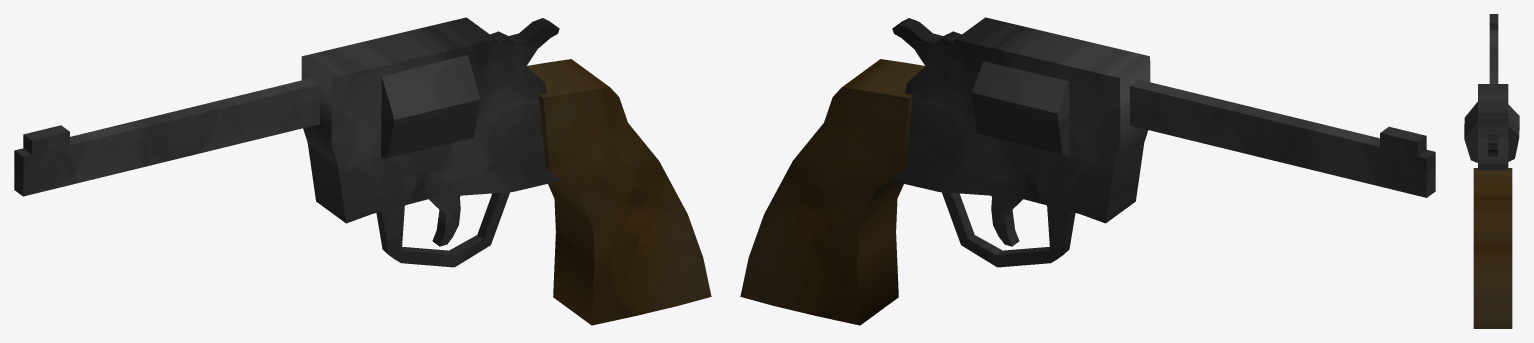
File: Revolver.fbx
3 renders of one model, left to right at view 1: azimuth 30°, elevation 25°; view 2: azimuth 150°, elevation 25°; view 3: azimuth 270°, elevation 25°, orthographic. The views are drawn at different scales.
Parts seen in each view (by area): view 1: Revolver; view 2: Revolver; view 3: Revolver.
Part boxes in pixels (x1,y1,x2,y2): Revolver: (14, 17, 711, 325); Revolver: (740, 17, 1435, 325); Revolver: (1464, 14, 1519, 328).
Bounding box in the file's own units: 23.3 × 10.19 × 3.33.
